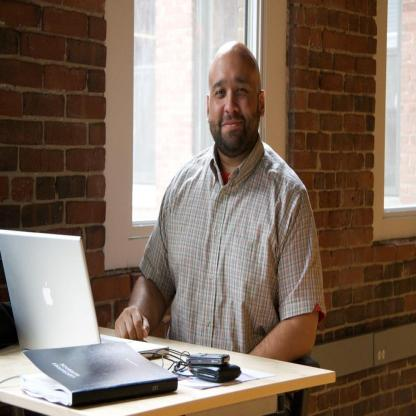board: (0, 227, 167, 360)
